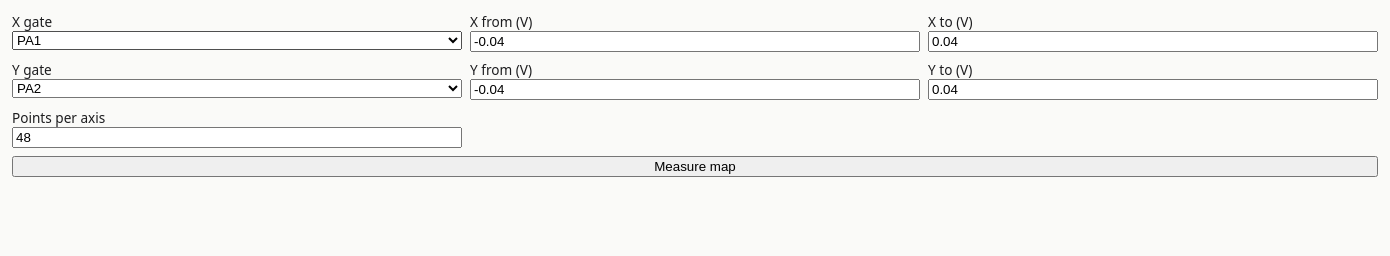
Scenario: CsdPanel › shows API errors
Step 1. Click the button "Measure map" → (695, 166), box [12, 156, 1378, 177]
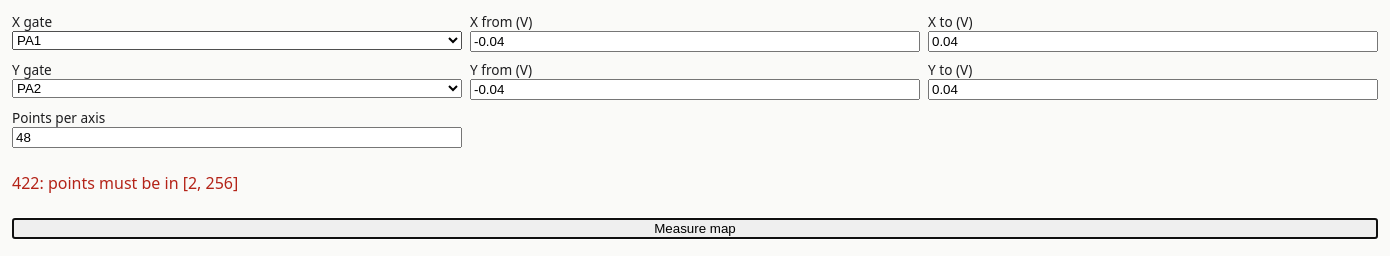
Expected: the message shows "points must be", [12, 172, 238, 194]
